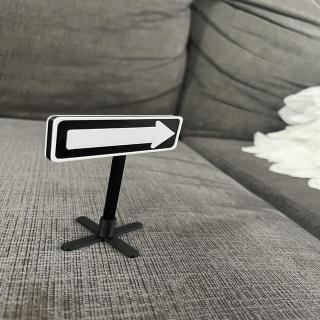sign_oneway_right: (51, 115, 186, 165)
